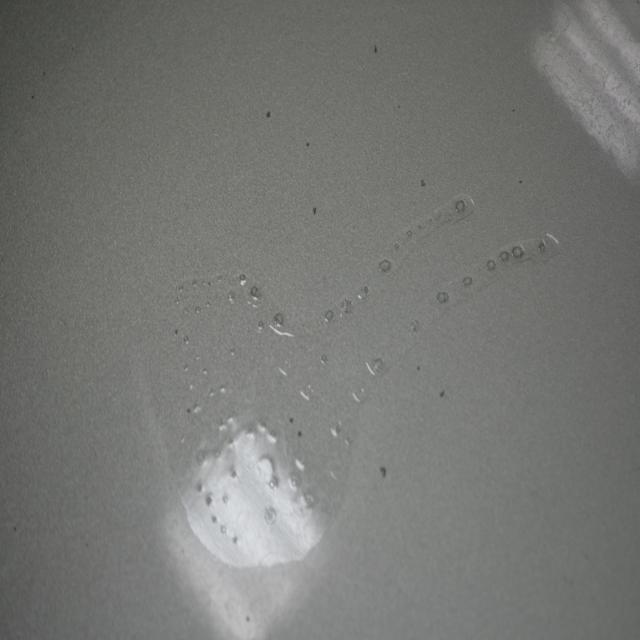dirt: (436, 382, 446, 406), (294, 427, 308, 442), (376, 464, 389, 480), (415, 355, 423, 379), (310, 204, 321, 217), (372, 43, 383, 56), (286, 410, 295, 425), (264, 108, 271, 120), (509, 101, 515, 114), (420, 176, 425, 189), (305, 139, 310, 150), (518, 177, 521, 185)
runs: (142, 201, 560, 566)
